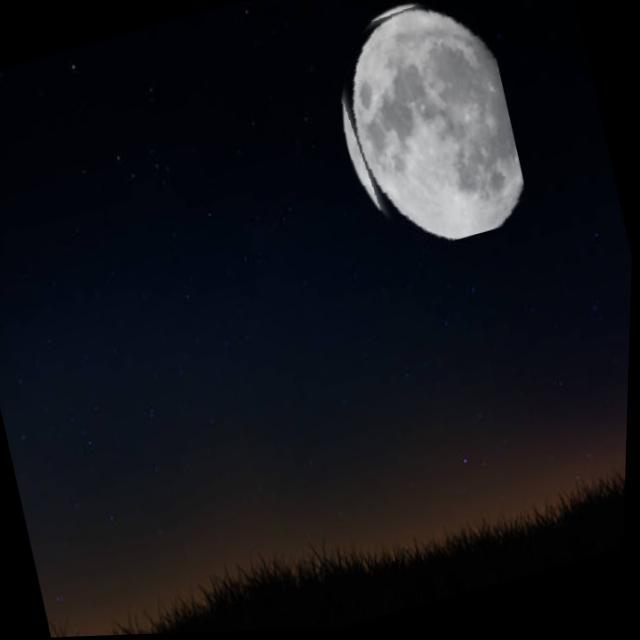moon: (313, 0, 538, 269)
